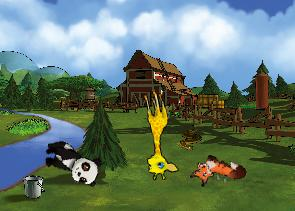fox: (187, 148, 248, 199)
giraffe: (131, 88, 180, 182)
panda: (38, 136, 105, 189)
